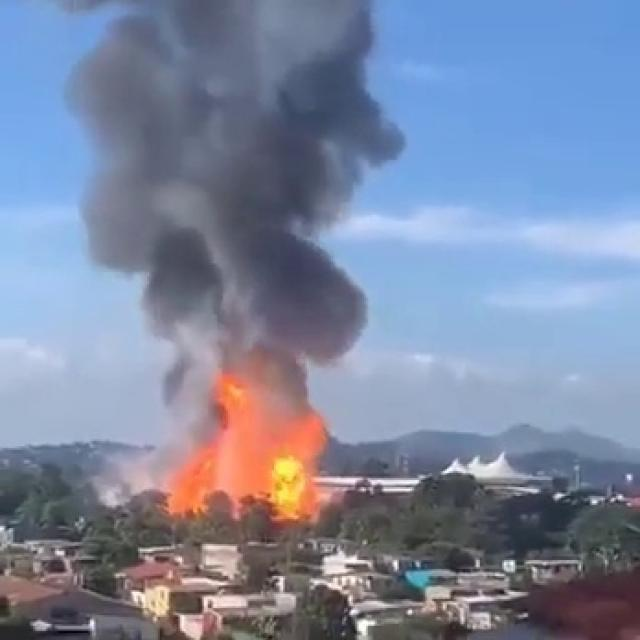Fire: (168, 369, 337, 526)
Smoke: (40, 4, 397, 372)
